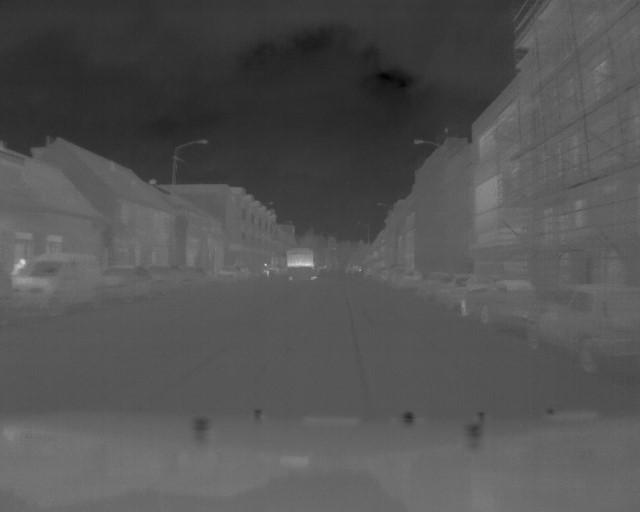car: (528, 285, 640, 373), (11, 253, 102, 313), (462, 280, 526, 329), (106, 262, 156, 303), (427, 268, 463, 313), (166, 262, 198, 291), (392, 265, 423, 291), (216, 265, 245, 283)
